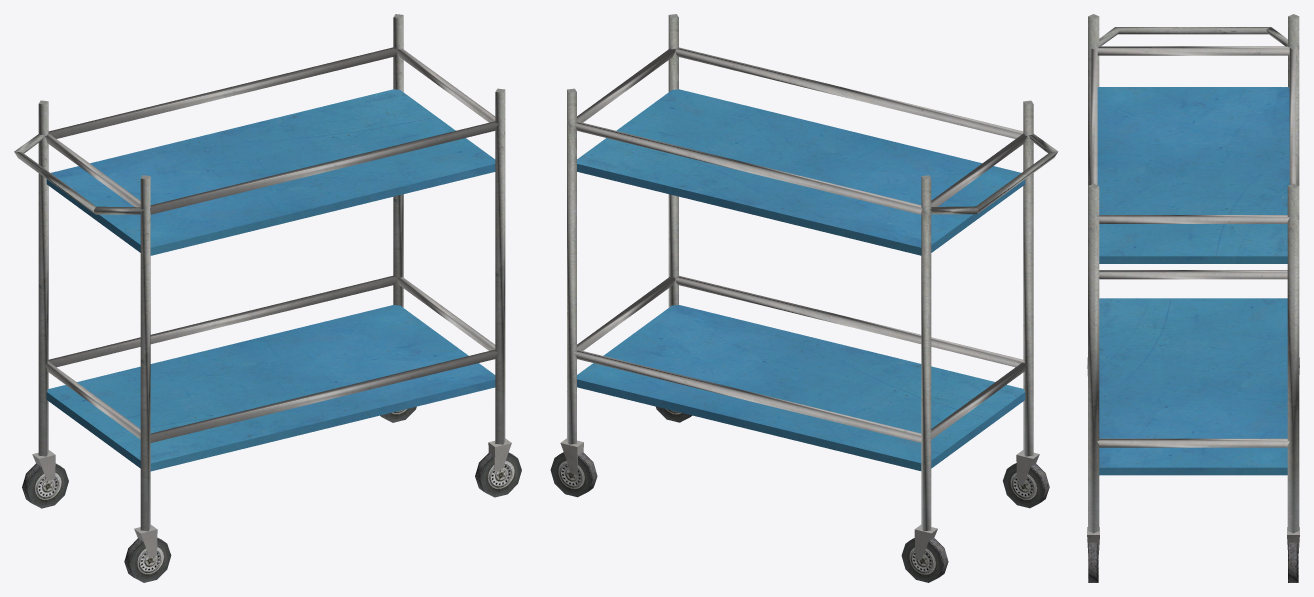
The model's file is Prop_Yytc01.glb.
3 views of the same model, side by side, from view 1: azimuth 30°, elevation 25°; view 2: azimuth 150°, elevation 25°; view 3: azimuth 270°, elevation 25° (orthographic). The views are drawn at different scales.
Visible parts, largest first — view 1: xiutz_yytc_01; view 2: xiutz_yytc_01; view 3: xiutz_yytc_01.
Part boxes in pixels (box(x1,y1,x2,y2)): xiutz_yytc_01: box(14, 14, 521, 582); xiutz_yytc_01: box(550, 14, 1058, 582); xiutz_yytc_01: box(1087, 14, 1299, 582).
Size of the model in its own units: 1.87 by 1.73 by 0.8475.
1 material, 1 textured.
